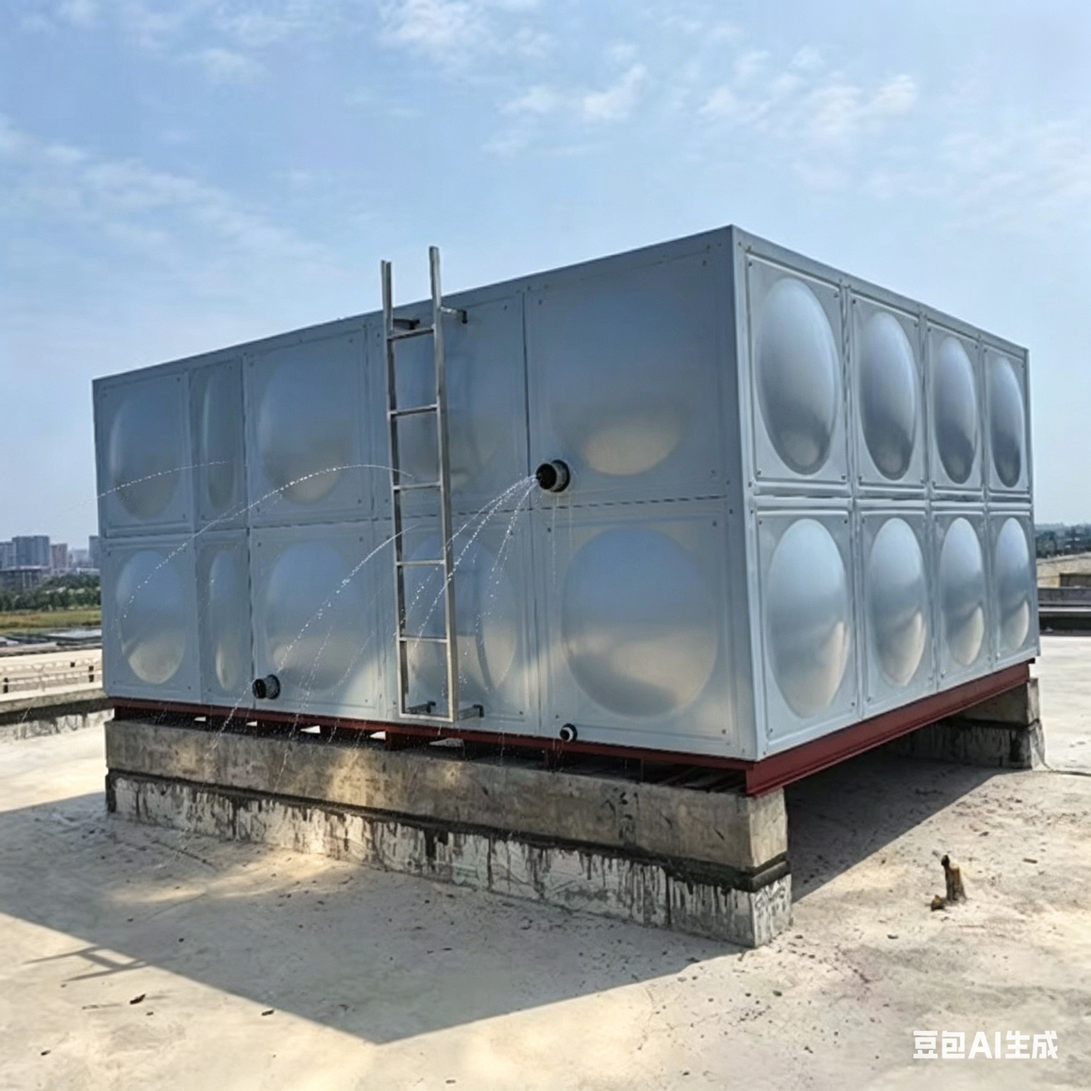Leakage: (421, 463, 568, 678)
